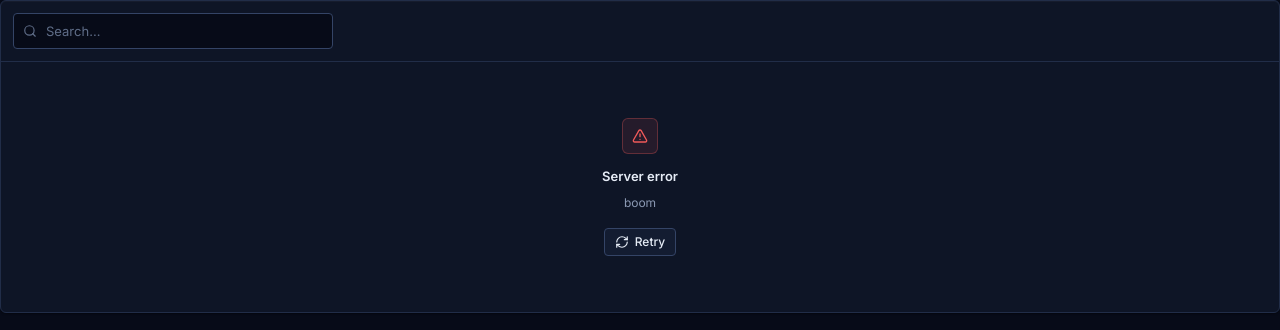
Scenario: ResourceTable › shows the API error (not fake data) and retries on demand
This screenshot has width=1280, height=330.
Expected: the message shows "Server error", x1=602 y1=168 x2=678 y2=184
Step 1. Click the button "Retry" → (640, 242), box x1=604 y1=228 x2=676 y2=256
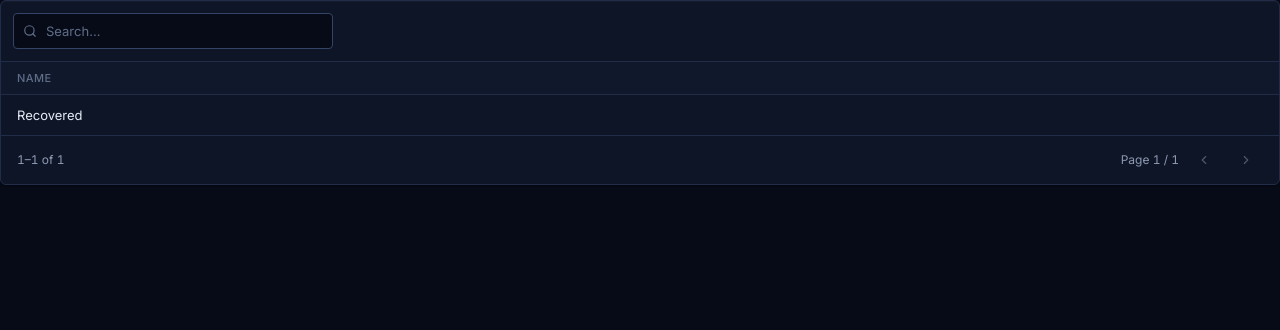
Expected: the text "Recovered" is shown, x1=1 y1=95 x2=1279 y2=135
